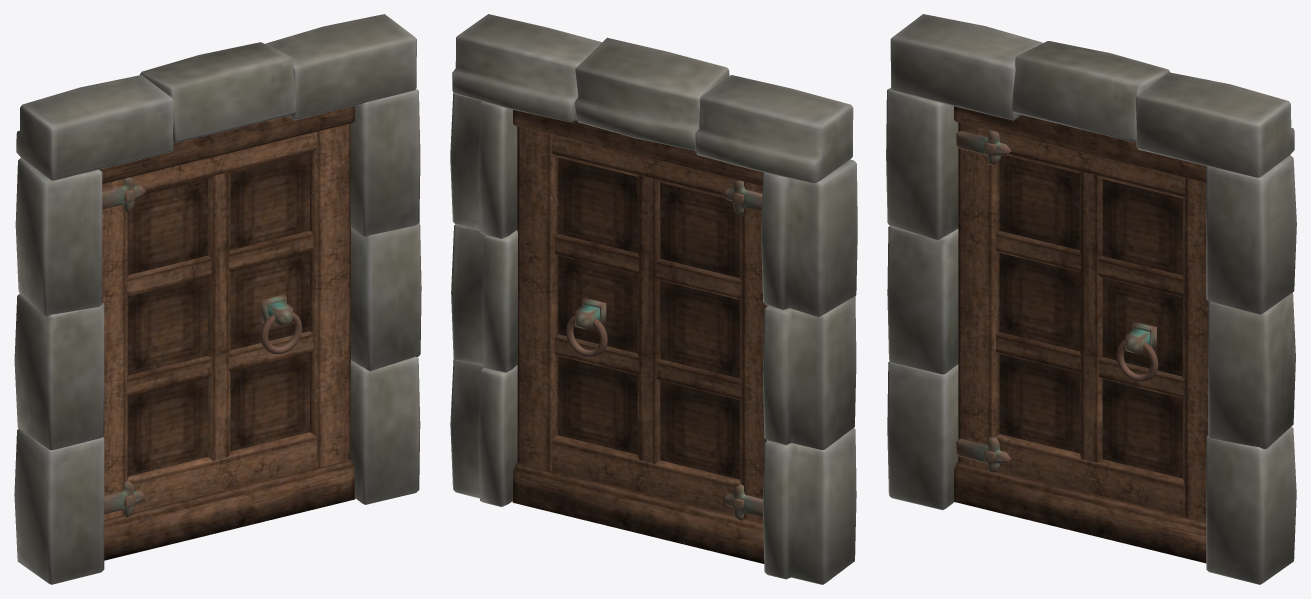
File: t2_door_ornamented_wooden.glb
The picture shows the model from 3 angles, left to right: view 1: azimuth 30°, elevation 25°; view 2: azimuth 150°, elevation 25°; view 3: azimuth 330°, elevation 25°; orthographic projection.
Parts seen in each view (by area): view 1: door_castle_small_02; view 2: door_castle_small_02; view 3: door_castle_small_02.
Part boxes in pixels (x1,y1,x2,y2): door_castle_small_02: [14, 14, 421, 584]; door_castle_small_02: [450, 14, 857, 584]; door_castle_small_02: [886, 14, 1296, 584].
Bounding box in the file's own units: 2.27 × 2.67 × 0.426.
2 materials, 2 textured.
